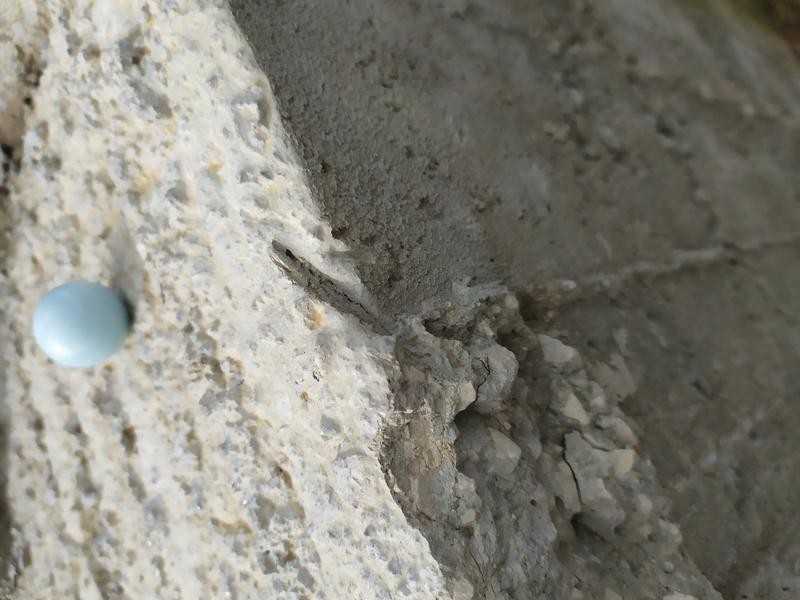Warning: (29, 276, 132, 371)
